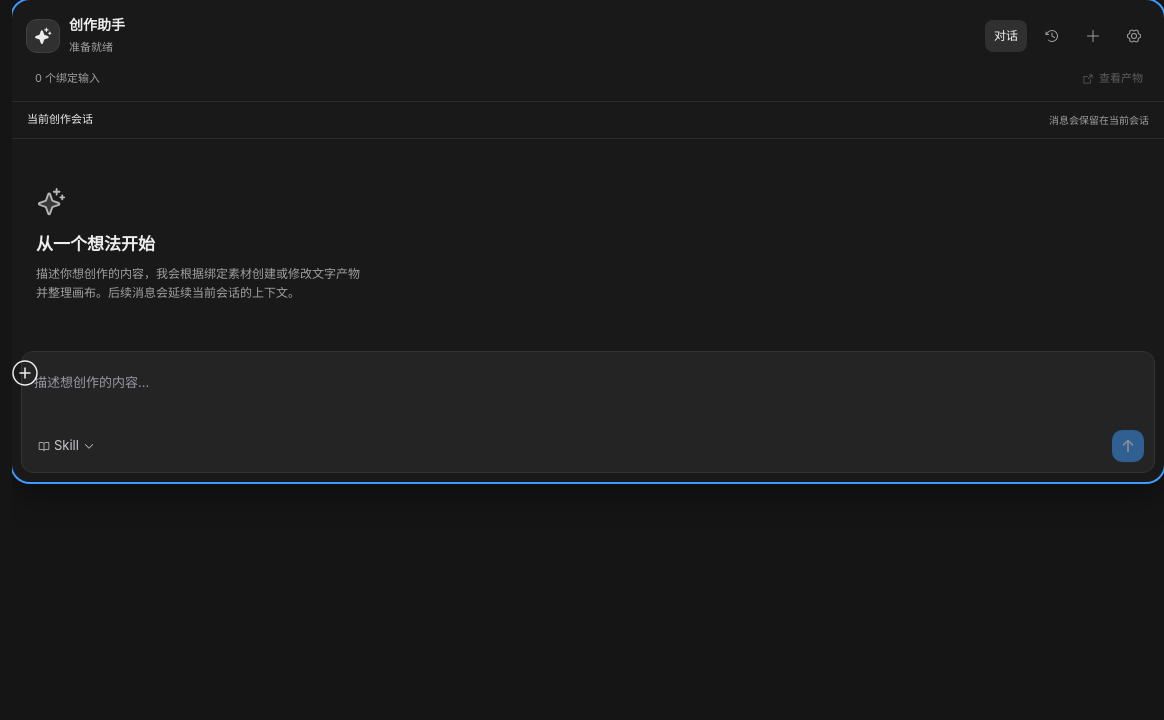
Test: AgentChatCard › preserves the draft and blocks creation for unsupported tools
Type "规划三个镜头，生成之前先给我检查。" into the text box named "本次任务" at (588, 393), box [32,362,1144,424]
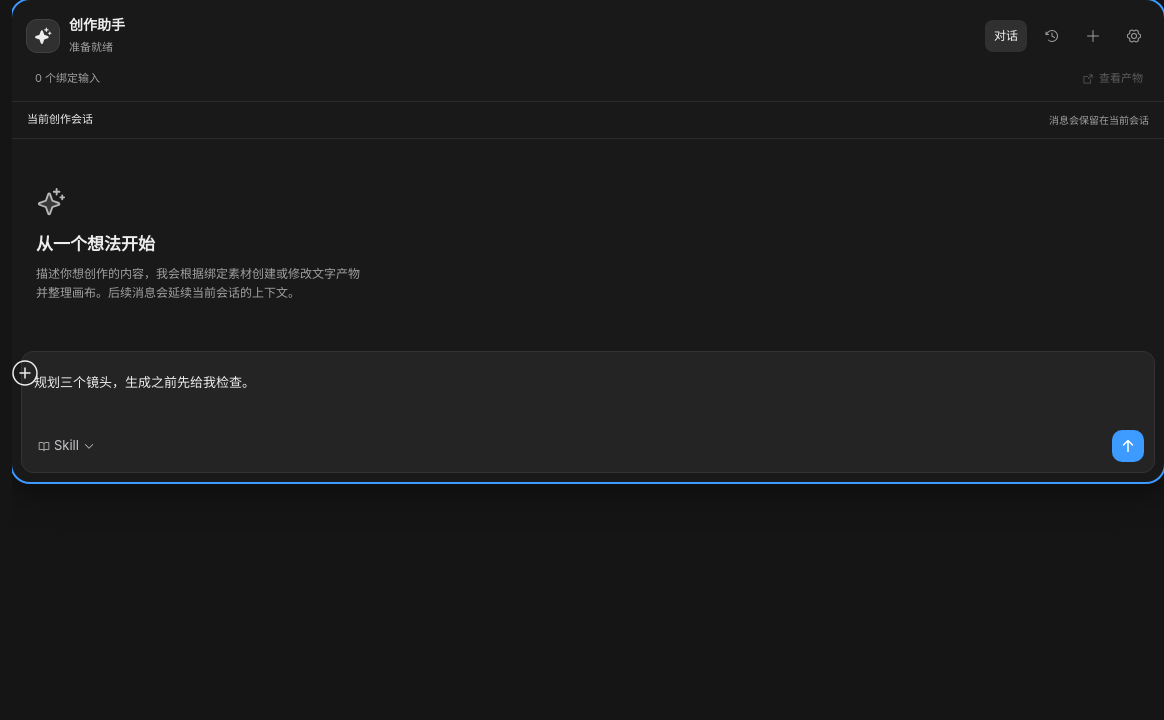
Click the button named "发送" at (1128, 446), box [1112,430,1144,462]
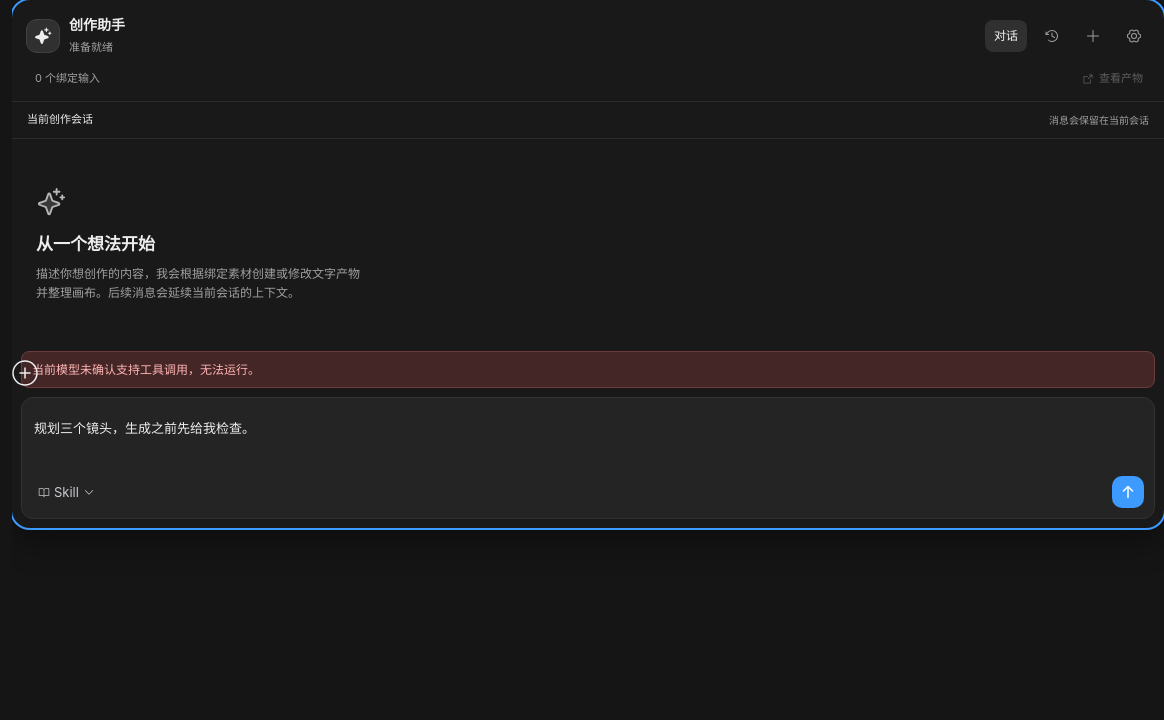
Check: the message reads "当前模型未确认支持工具调用，无法运行。", box [32,362,260,377]
